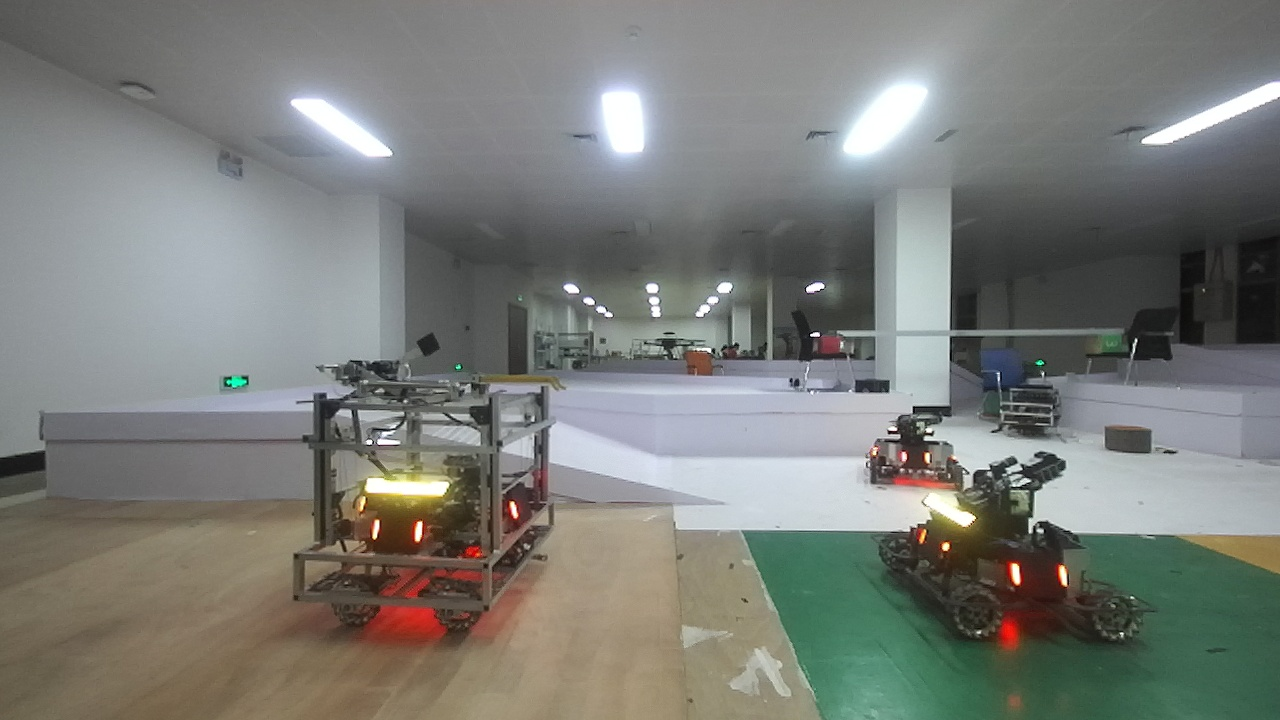car: (302, 354, 569, 626), (872, 462, 1146, 653), (866, 395, 963, 492)
